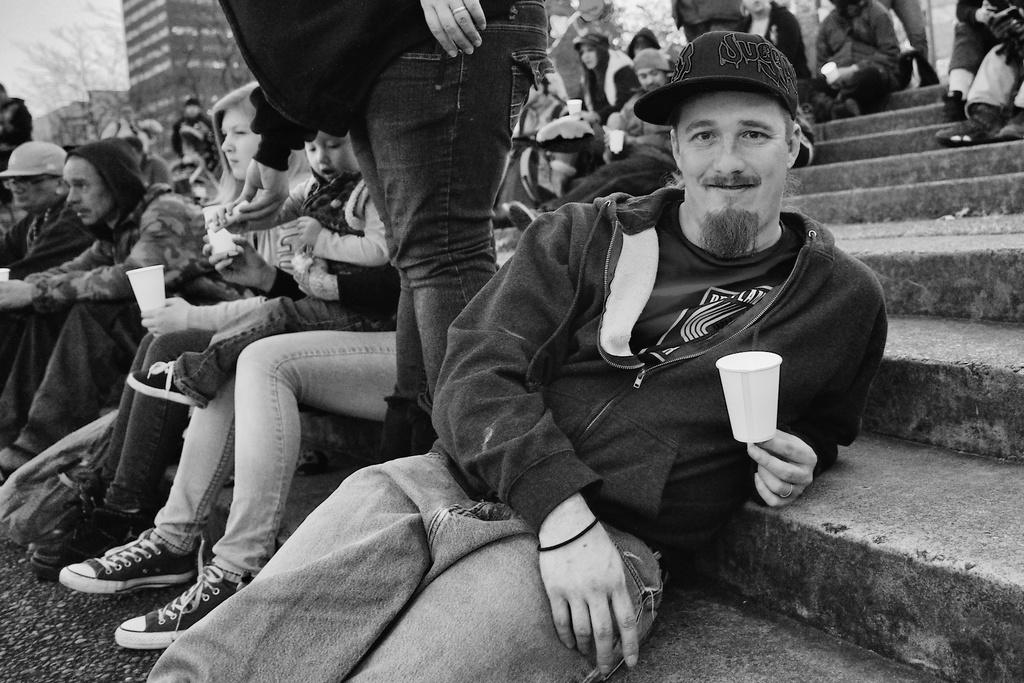Hat: (632, 30, 796, 122), (0, 135, 72, 179)
